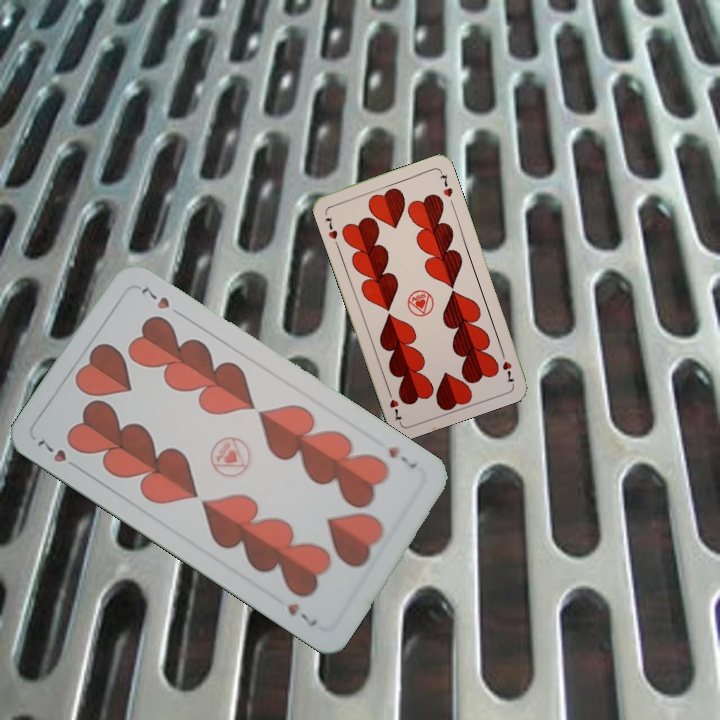H7: (33, 434, 84, 473), (384, 442, 419, 472), (497, 347, 517, 386), (321, 213, 340, 242)
